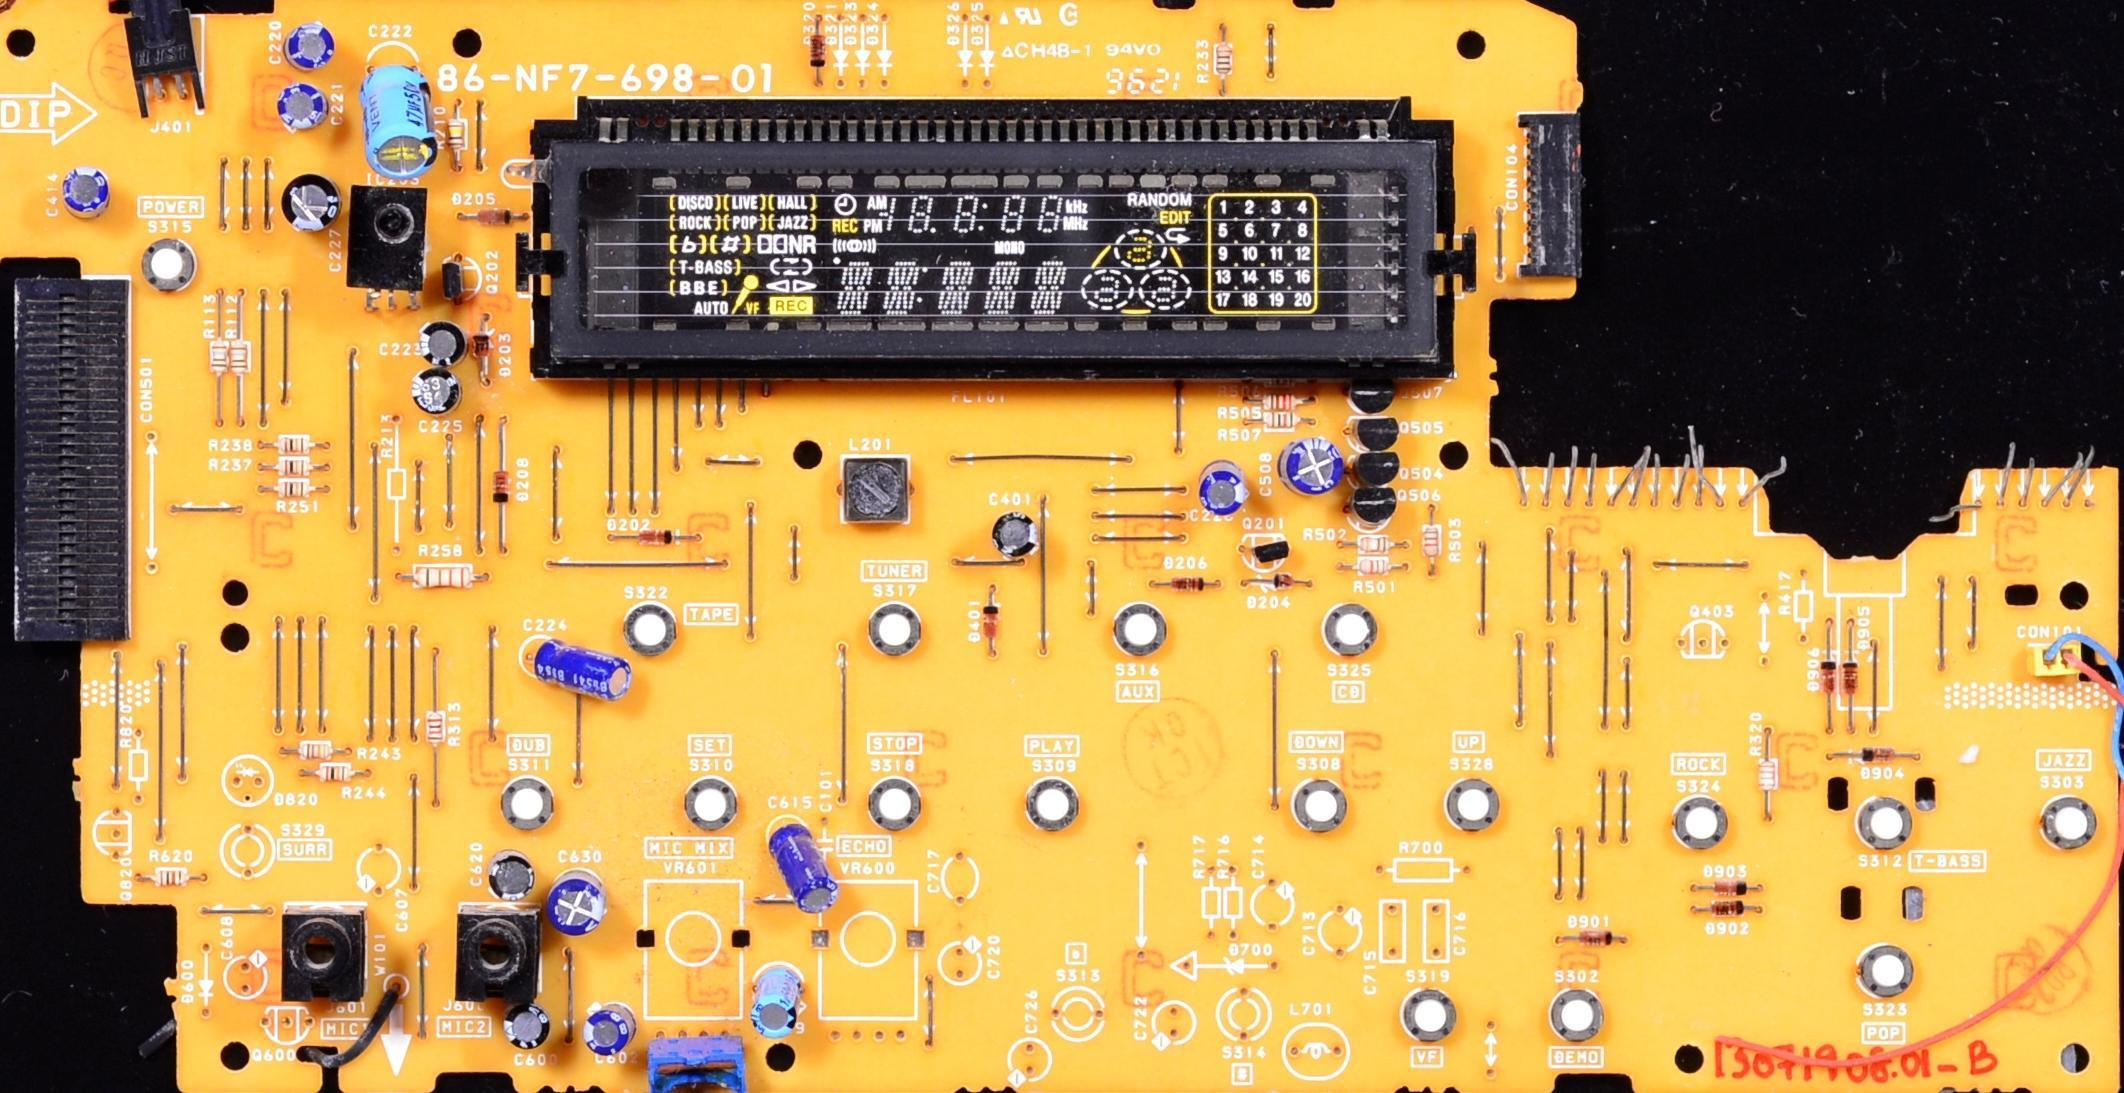Capacitor: (357, 63, 443, 177), (523, 636, 632, 710), (768, 823, 832, 912), (1273, 436, 1348, 497), (748, 966, 806, 1041), (279, 171, 341, 234), (58, 162, 117, 225), (548, 870, 606, 934), (282, 20, 344, 69), (275, 81, 331, 135), (415, 315, 472, 368), (409, 368, 462, 421), (583, 1002, 632, 1058), (1198, 458, 1246, 514), (990, 511, 1042, 562), (489, 851, 538, 902), (500, 1005, 552, 1053)
Resistor: (1203, 41, 1253, 89), (414, 560, 474, 597), (1749, 751, 1787, 801), (419, 705, 453, 756), (295, 731, 340, 766), (440, 113, 472, 158), (229, 328, 253, 384), (274, 430, 318, 460), (209, 326, 230, 387), (147, 865, 190, 893), (272, 456, 320, 481), (274, 476, 313, 503), (312, 760, 354, 784)
